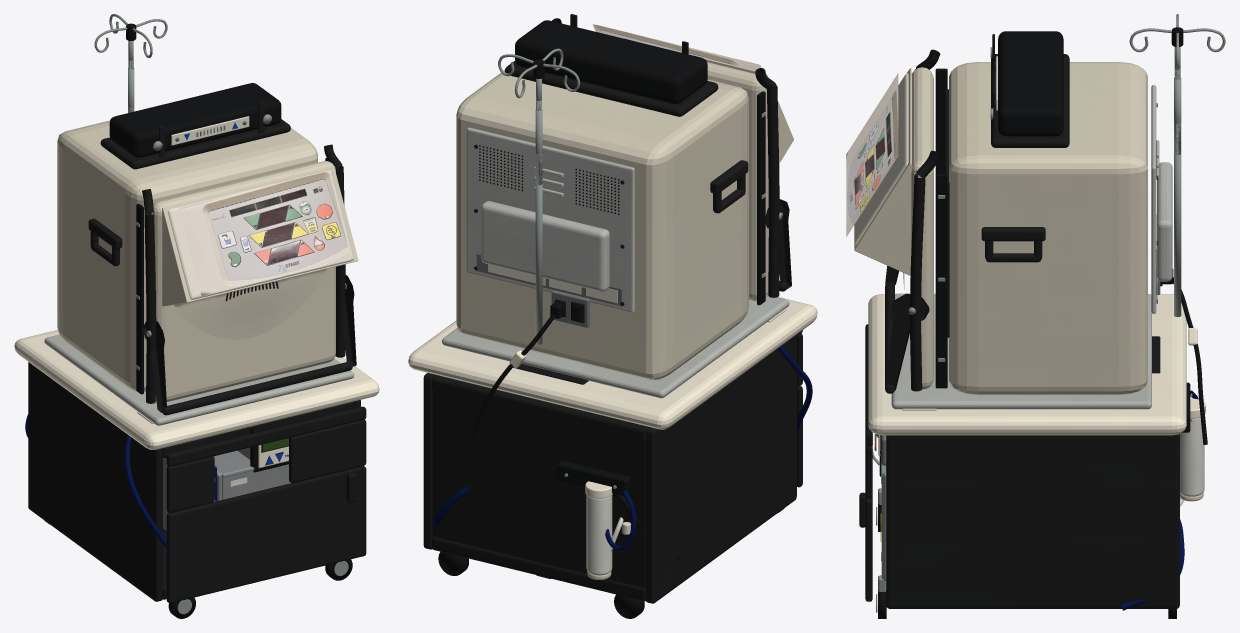
File: nxstage-system-one.glb
3 views of the same model, side by side, from view 1: azimuth 30°, elevation 25°; view 2: azimuth 150°, elevation 25°; view 3: azimuth 270°, elevation 25° (orthographic). The views are drawn at different scales.
Parts seen in each view (by area): view 1: Upper machine shell, Cabinet left wall, Cabinet door lower panel, Cycler door front shell, Photo-derived control fascia, Upper white shelf, Upper accessory soft case, Central recessed face, Cycler molded support base, Cabinet door right stile, Inclined cycler fascia housing, Cabinet door upper rail (+16 smaller); view 2: Upper machine shell, Cabinet rear wall, Cabinet left wall, Cycler rear service panel, Upper white shelf, Upper accessory soft case, Cycler rear raised enclosure, Cycler molded support base, Cycler door front shell, Cabinet top, Cabinet floor, Upper accessory platform (+18 smaller); view 3: Upper machine shell, Cabinet right wall, Upper white shelf, Upper accessory soft case, Cycler molded support base, Cycler door front shell, Photo-derived control fascia, Inclined cycler fascia housing, Cycler right side guide channel, Vertical black side rail.001, System One control fascia, Cycler rear raised enclosure (+13 smaller).
Boxes of the visible parts, <box> form: Upper machine shell: <box>57,120,317,392</box>; Cabinet left wall: <box>28,362,162,601</box>; Cabinet door lower panel: <box>166,466,366,603</box>; Cycler door front shell: <box>151,161,335,402</box>; Photo-derived control fascia: <box>179,171,351,295</box>; Upper white shelf: <box>14,330,379,449</box>; Upper accessory soft case: <box>109,83,281,157</box>; Central recessed face: <box>174,264,344,339</box>; Cycler molded support base: <box>44,334,354,425</box>; Cabinet door right stile: <box>289,419,366,483</box>; Inclined cycler fascia housing: <box>162,165,358,306</box>; Cabinet door upper rail: <box>166,406,366,466</box>; Upper machine shell: <box>456,70,748,379</box>; Cabinet rear wall: <box>432,375,648,588</box>; Cabinet left wall: <box>645,334,796,603</box>; Cycler rear service panel: <box>466,127,634,312</box>; Upper white shelf: <box>408,297,817,429</box>; Upper accessory soft case: <box>515,20,707,104</box>; Cycler rear raised enclosure: <box>481,201,609,291</box>; Cycler molded support base: <box>442,295,789,398</box>; Cycler door front shell: <box>707,62,768,301</box>; Cabinet top: <box>432,377,645,442</box>; Cabinet floor: <box>432,536,645,601</box>; Upper accessory platform: <box>505,61,718,116</box>; Upper machine shell: <box>949,62,1147,394</box>; Cabinet right wall: <box>886,434,1179,608</box>; Upper white shelf: <box>868,294,1186,435</box>; Upper accessory soft case: <box>998,31,1063,136</box>; Cycler molded support base: <box>891,293,1151,409</box>; Cycler door front shell: <box>910,67,933,389</box>; Photo-derived control fascia: <box>846,73,898,236</box>; Inclined cycler fascia housing: <box>854,68,911,275</box>; Cycler right side guide channel: <box>935,174,947,388</box>; Vertical black side rail.001: <box>910,174,925,391</box>; System One control fascia: <box>854,73,911,246</box>; Cycler rear raised enclosure: <box>1157,162,1172,281</box>.
Size of the model in its own units: 0.4841 by 0.9301 by 0.5861.
Materials: 19 (19 with a texture image).
